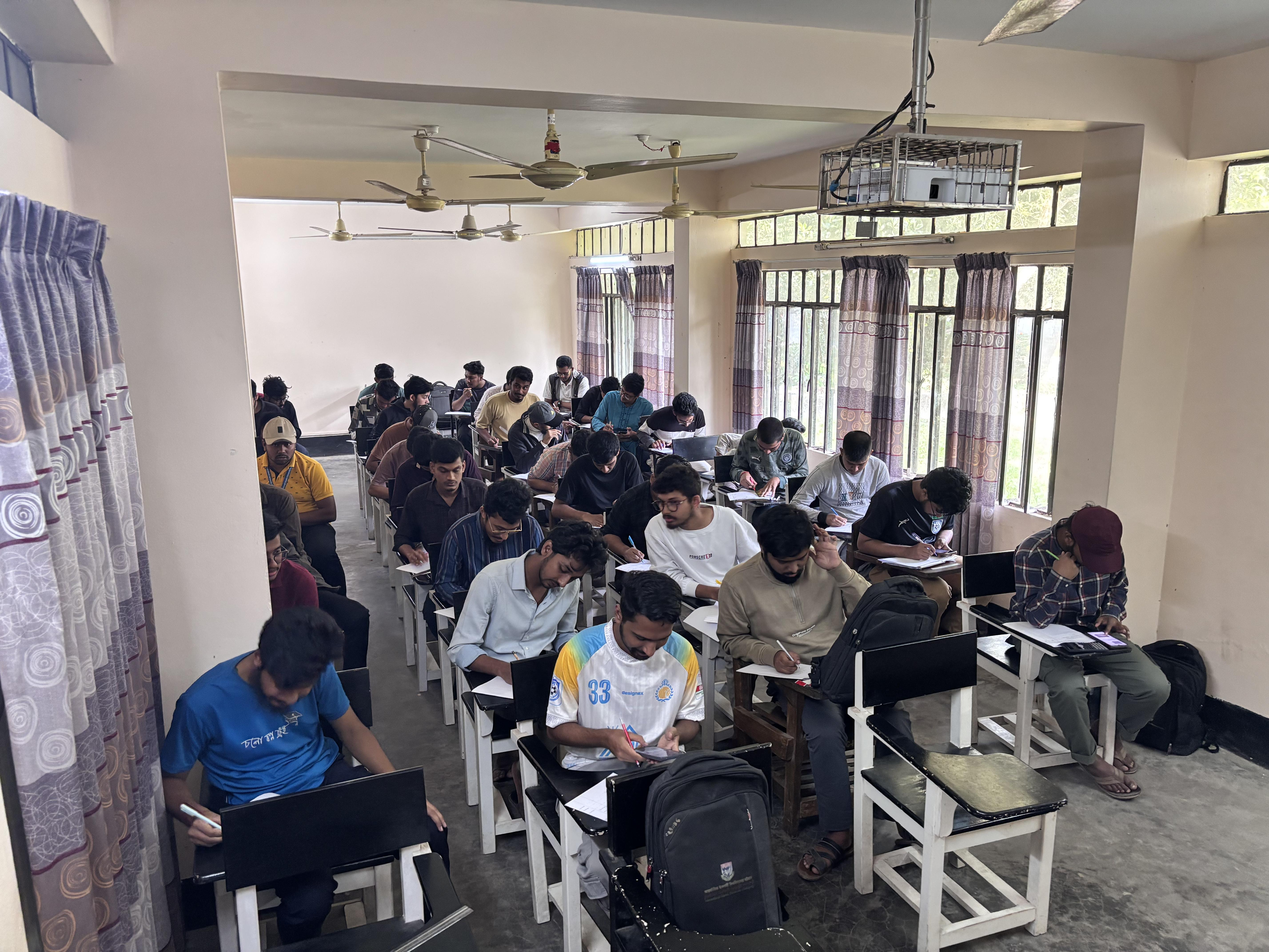copying: (640, 468, 740, 600)
hidden_communication: (527, 394, 570, 449)
no_cheating: (173, 614, 364, 827), (732, 503, 849, 697), (470, 528, 595, 683), (554, 422, 642, 523), (404, 436, 480, 548), (450, 481, 544, 571), (805, 428, 878, 533), (729, 413, 808, 506), (261, 511, 321, 612), (260, 421, 324, 503), (656, 389, 722, 454), (543, 351, 582, 414), (360, 372, 402, 422), (498, 370, 534, 411)
side_talking: (597, 369, 649, 438), (452, 357, 488, 416), (400, 372, 437, 412)
suspicious_moving: (262, 364, 311, 416)
using_phone: (551, 572, 711, 791), (1006, 494, 1141, 697), (870, 458, 983, 589)
